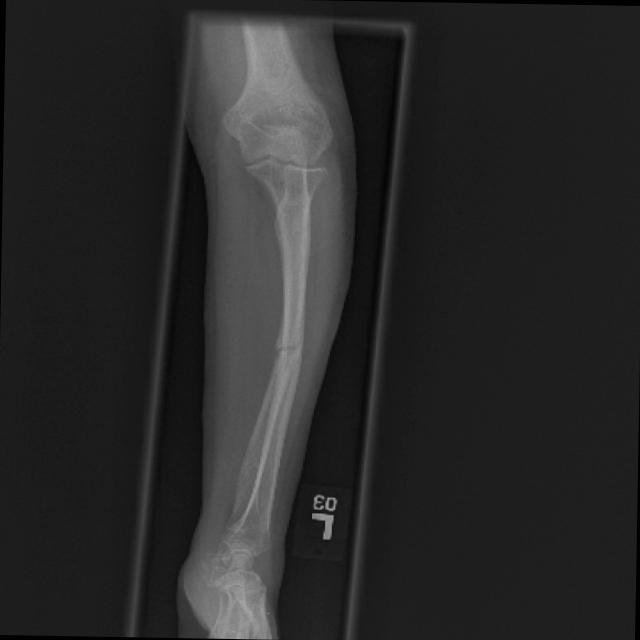forearm fracture: (238, 312, 321, 408)
